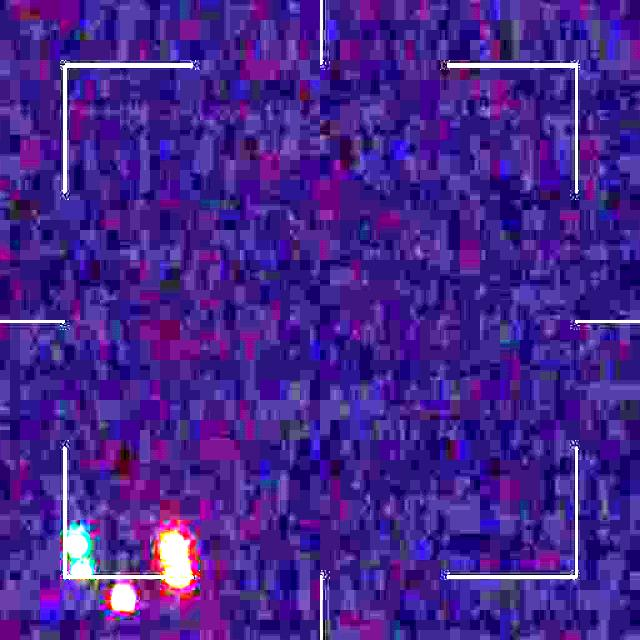bird: (64, 528, 192, 611)
